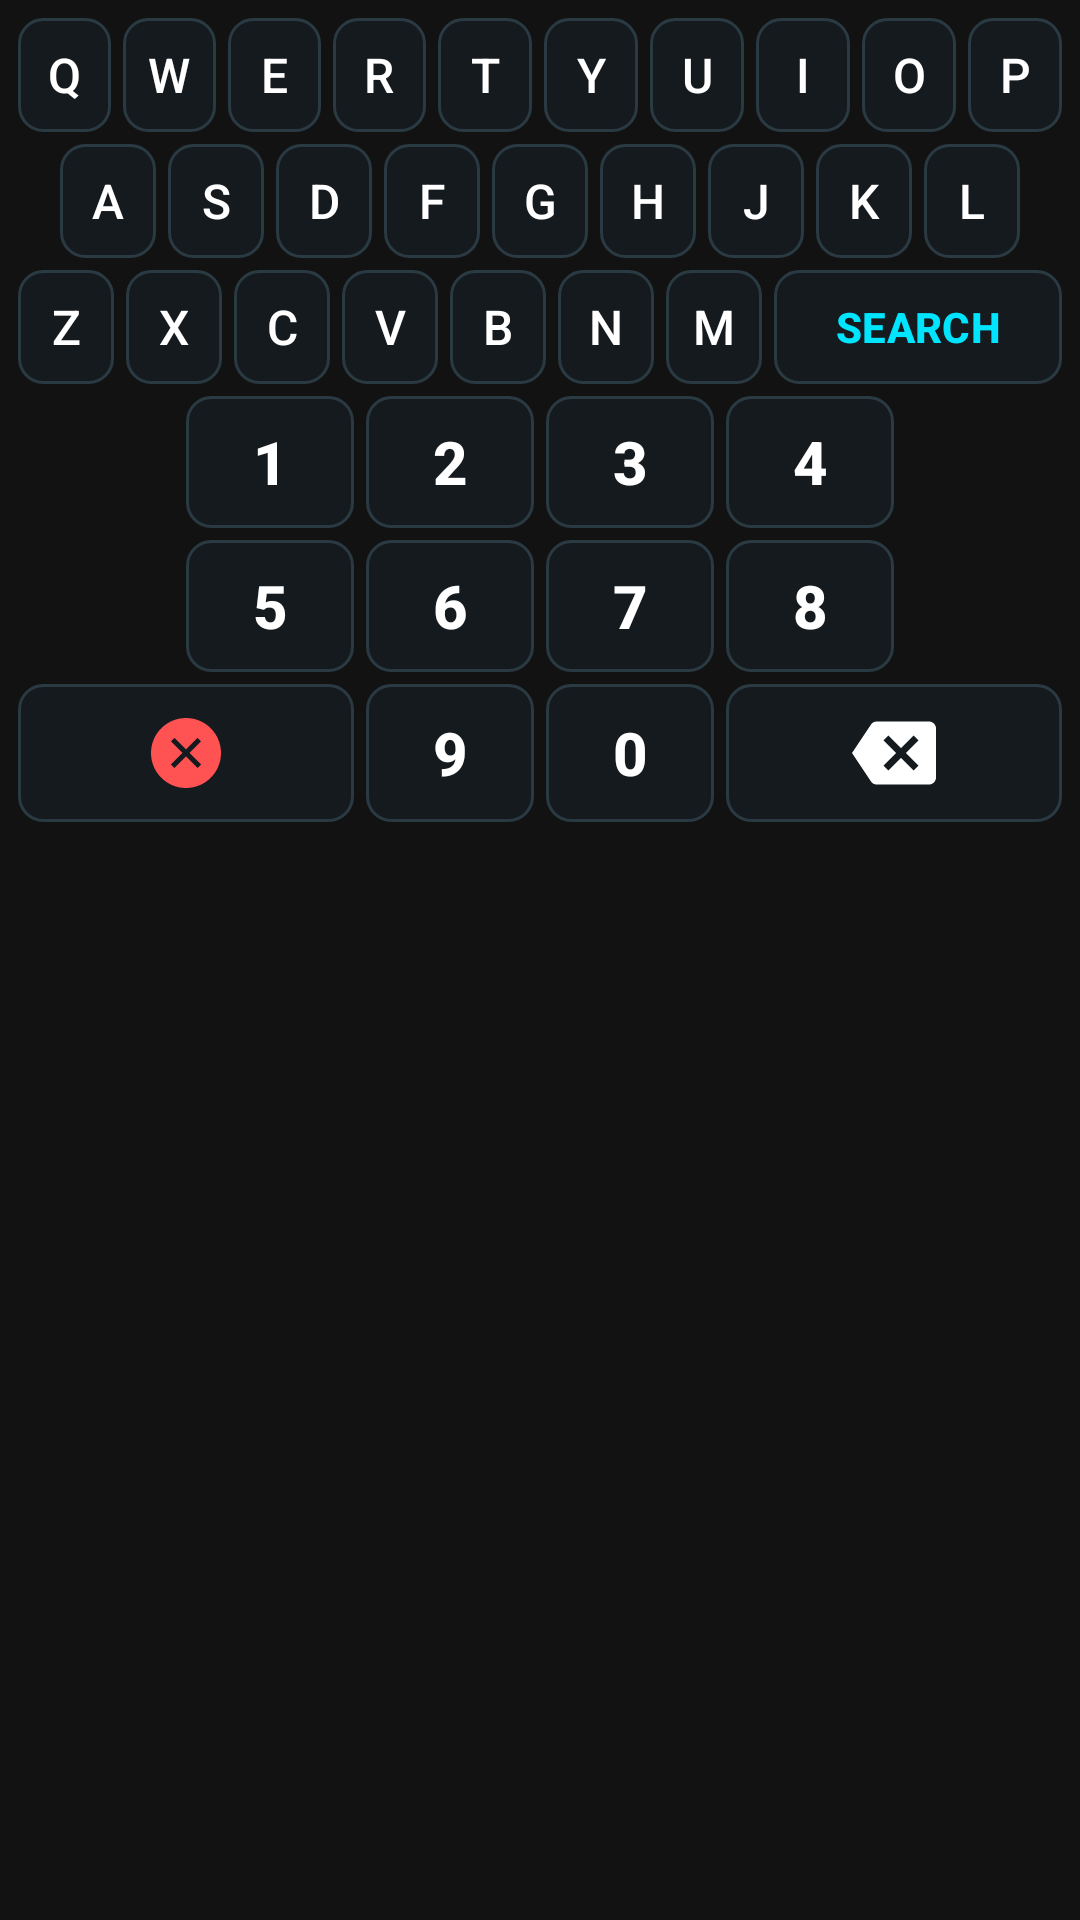

Point at icon controls on the screen. Image size 1080x1920, points as (x=x, y=y).
Bersihkan: (x=186, y=753)
Hapus: (x=894, y=753)
